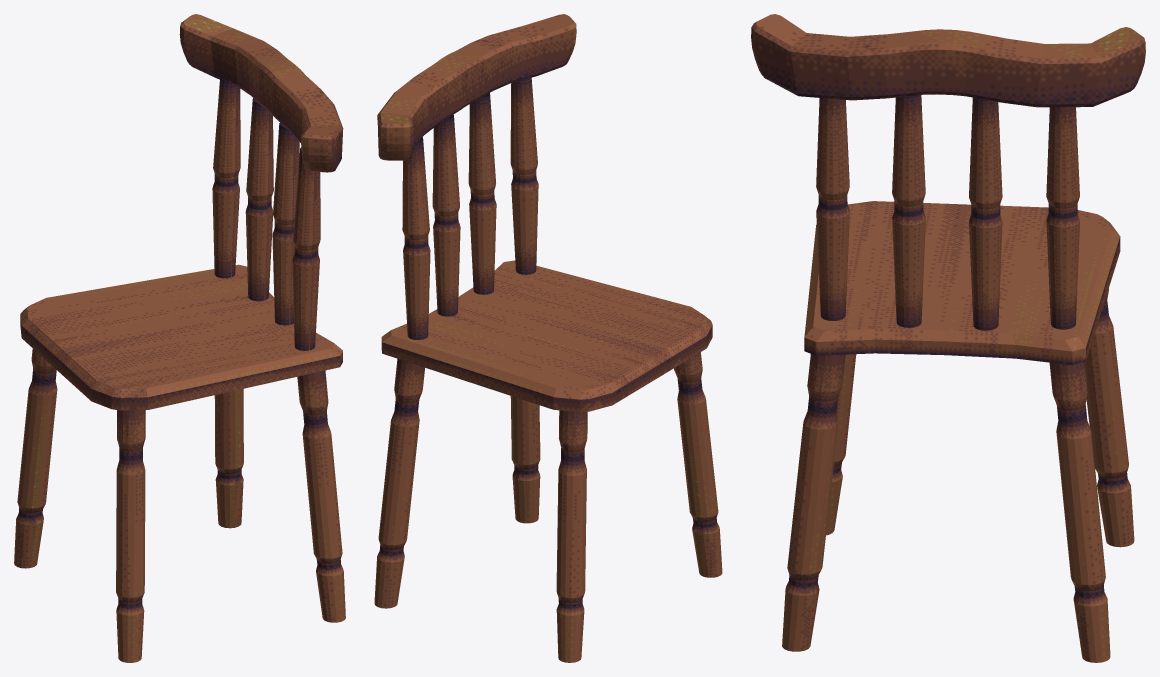
Rendered from SillaMadera_01.fbx.
3 renders of one model, left to right at view 1: azimuth 30°, elevation 25°; view 2: azimuth 150°, elevation 25°; view 3: azimuth 270°, elevation 25°, orthographic. The views are drawn at different scales.
Visible parts, largest first — view 1: Cube.061; view 2: Cube.061; view 3: Cube.061.
Boxes of the visible parts, bbox=[...] form: Cube.061: bbox=[14, 14, 345, 662]; Cube.061: bbox=[374, 14, 722, 662]; Cube.061: bbox=[751, 14, 1145, 662].
Bounding box in the file's own units: 47.39 × 93.14 × 54.26.
